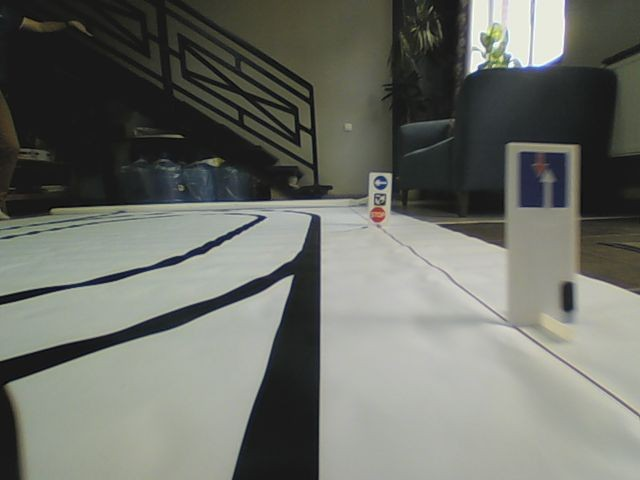Stop: (369, 205, 387, 223)
priority_movement: (517, 150, 571, 210)
